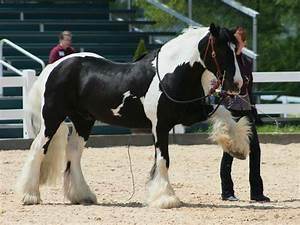horse: (17, 22, 245, 207)
